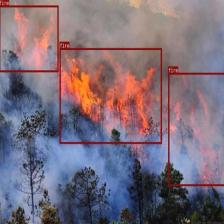fire: (59, 48, 162, 143), (167, 72, 224, 185), (0, 5, 58, 72)
